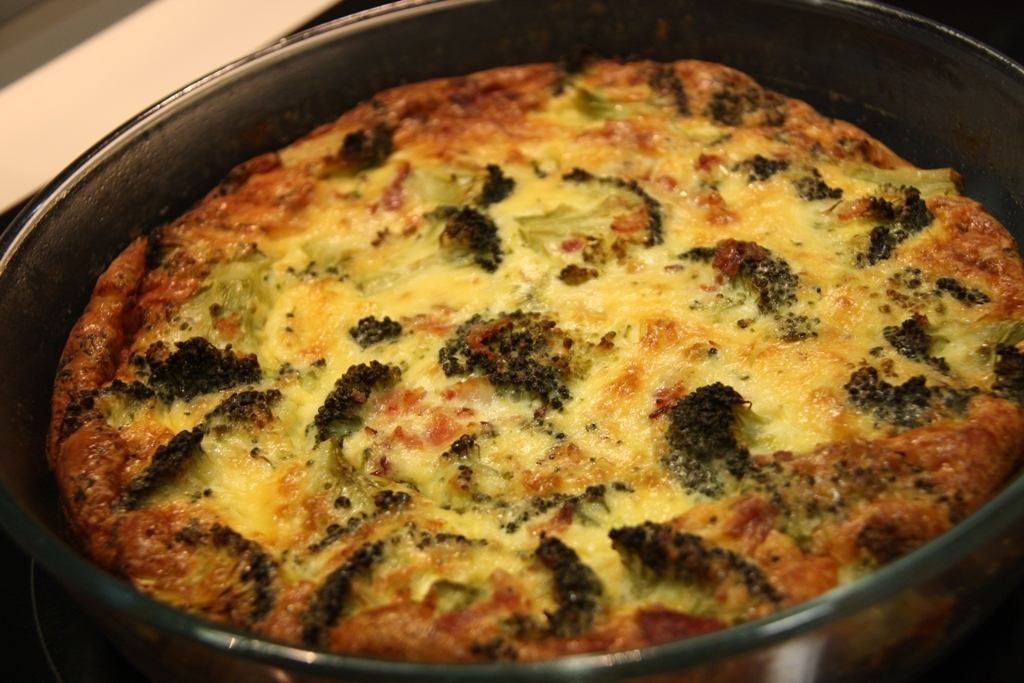Pizza: (46, 51, 1022, 660)
